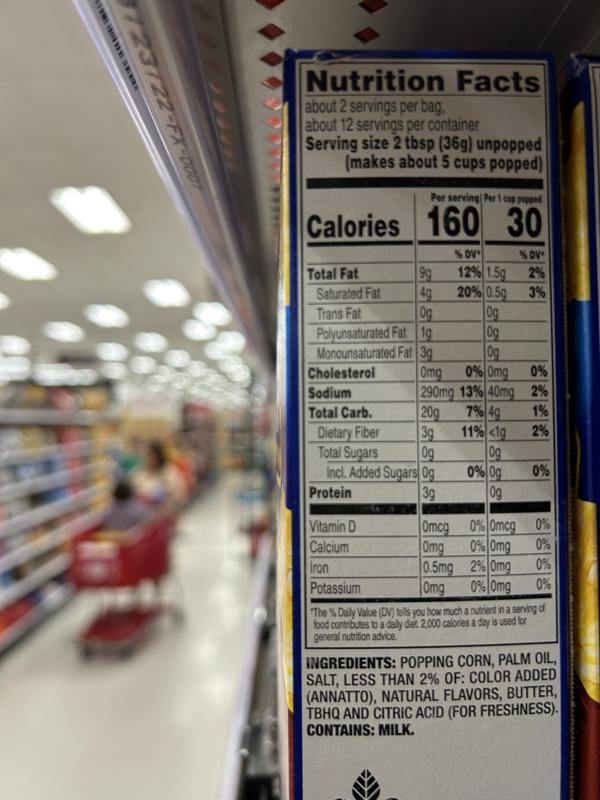ingredients: (304, 651, 565, 722)
